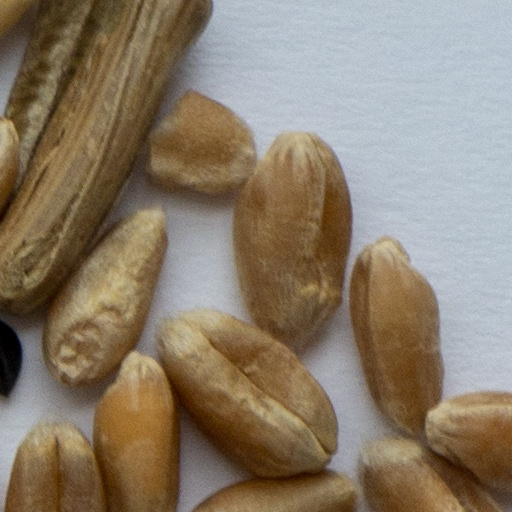Wheat-grain-damaged-poly: (143, 86, 257, 195)
